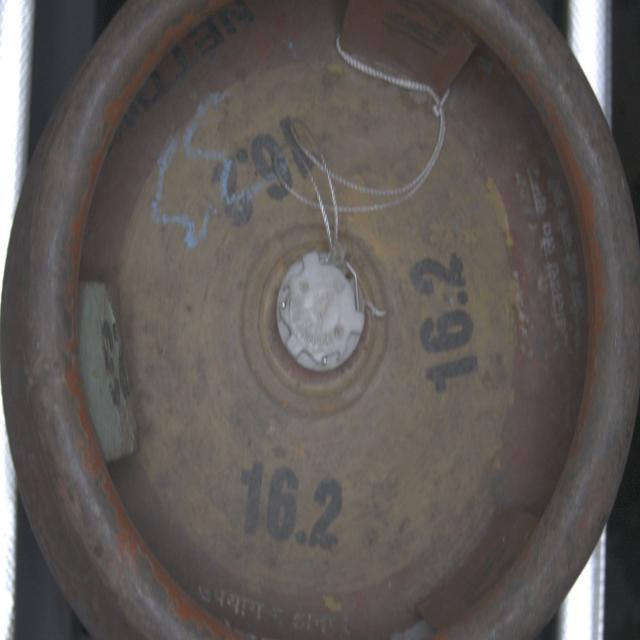Cap: (276, 248, 369, 376)
